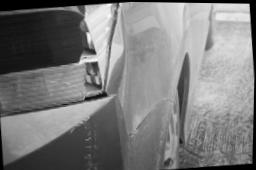Bumper: (62, 96, 129, 170)
Light: (0, 2, 118, 115)
